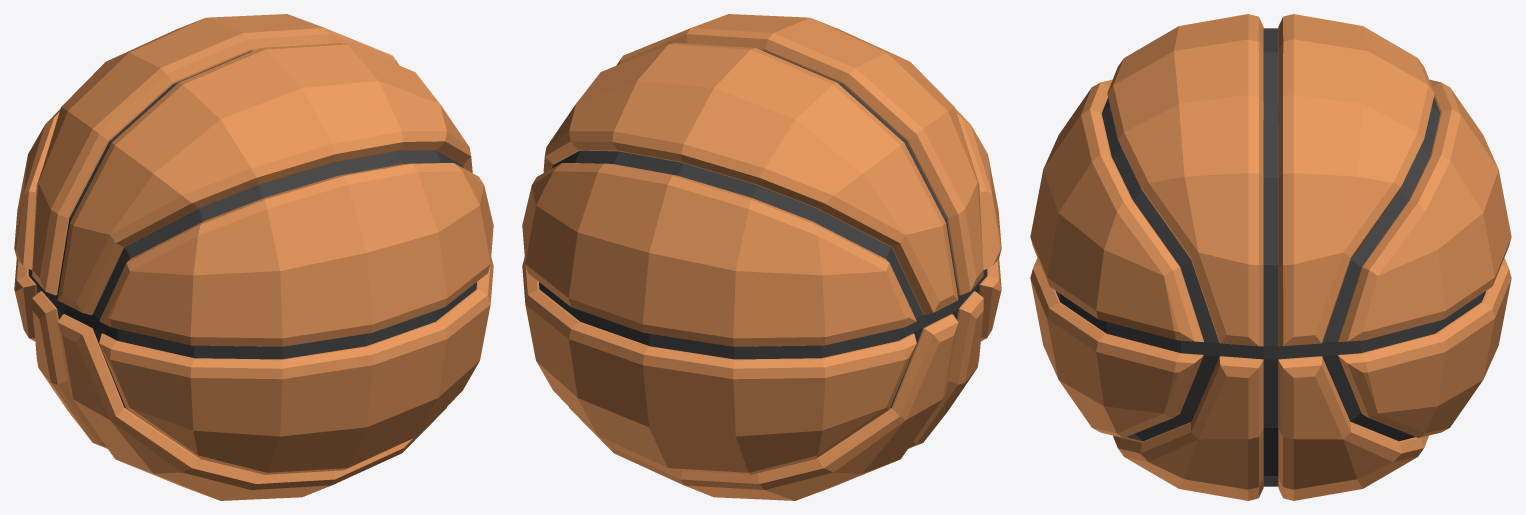
File: Pelota.fbx
3 views of the same model, side by side, from view 1: azimuth 30°, elevation 25°; view 2: azimuth 150°, elevation 25°; view 3: azimuth 270°, elevation 25° (orthographic).
Parts seen in each view (by area): view 1: Pelota.009; view 2: Pelota.009; view 3: Pelota.009.
Part boxes in pixels (x1,y1,x2,y2): Pelota.009: [14, 14, 493, 500]; Pelota.009: [522, 14, 1001, 500]; Pelota.009: [1030, 14, 1511, 500].
Size of the model in its own units: 165 by 162 by 165.
